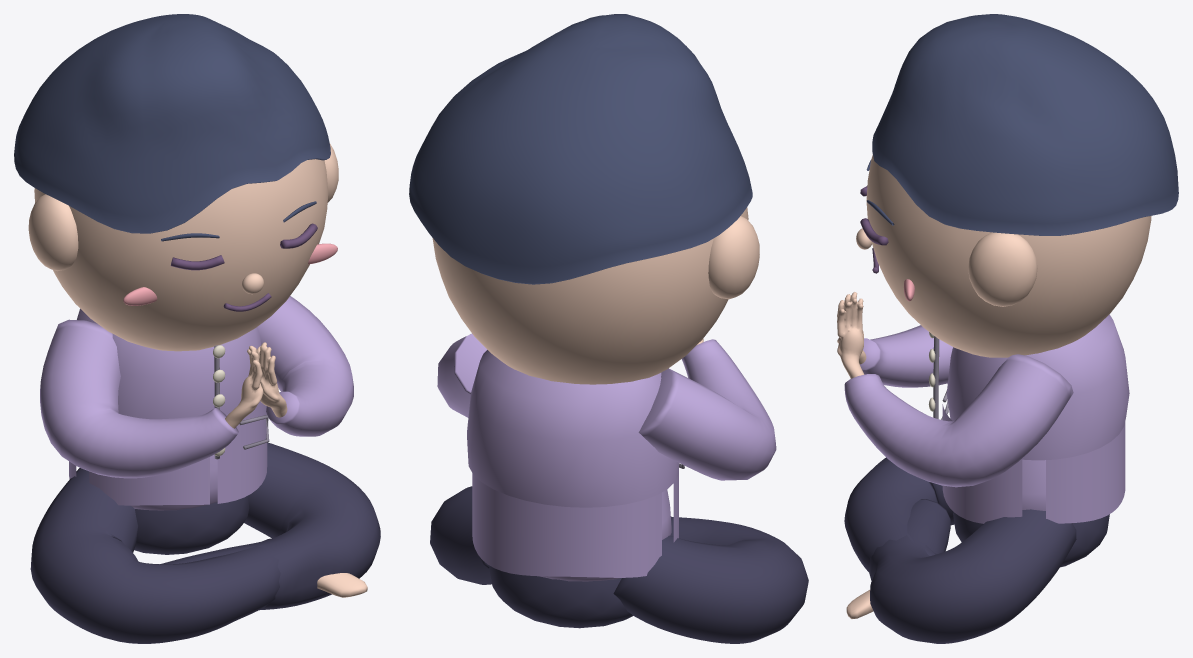
Rendered from meditator_male_cross_prayer_sidepart73_p07b1.glb.
The picture shows the model from 3 angles, left to right: view 1: azimuth 30°, elevation 25°; view 2: azimuth 150°, elevation 25°; view 3: azimuth 270°, elevation 25°; orthographic projection. The views are drawn at different scales.
Parts seen in each view (by area): view 1: hair_male_sidepart73_integrated_p07b1_object, ao_ba_ba_pants_SeatRoot_object, ao_ba_ba_top_UpperBodyBreath_object, skin_rose_cream_UpperBodyBreath_object, eyes_mauve_UpperBodyBreath_object, skin_rose_cream_SeatRoot_ankle_instep_toes_p05e_object, skin_blush_UpperBodyBreath_object; view 2: hair_male_sidepart73_integrated_p07b1_object, ao_ba_ba_top_UpperBodyBreath_object, skin_rose_cream_UpperBodyBreath_object, ao_ba_ba_pants_SeatRoot_object; view 3: hair_male_sidepart73_integrated_p07b1_object, ao_ba_ba_top_UpperBodyBreath_object, skin_rose_cream_UpperBodyBreath_object, ao_ba_ba_pants_SeatRoot_object, ao_ba_ba_placket_UpperBodyBreath_object, eyes_mauve_UpperBodyBreath_object, skin_rose_cream_SeatRoot_ankle_instep_toes_p05e_object.
Boxes of the visible parts, box(x1,y1,x2,y2) form: hair_male_sidepart73_integrated_p07b1_object: box(14, 14, 330, 241); ao_ba_ba_pants_SeatRoot_object: box(30, 442, 380, 643); ao_ba_ba_top_UpperBodyBreath_object: box(40, 296, 353, 510); skin_rose_cream_UpperBodyBreath_object: box(28, 143, 338, 428); eyes_mauve_UpperBodyBreath_object: box(170, 223, 317, 311); skin_rose_cream_SeatRoot_ankle_instep_toes_p05e_object: box(317, 573, 367, 597); skin_blush_UpperBodyBreath_object: box(123, 243, 337, 305); hair_male_sidepart73_integrated_p07b1_object: box(409, 14, 752, 284); ao_ba_ba_top_UpperBodyBreath_object: box(437, 333, 776, 581); skin_rose_cream_UpperBodyBreath_object: box(432, 207, 759, 384); ao_ba_ba_pants_SeatRoot_object: box(430, 486, 808, 643); hair_male_sidepart73_integrated_p07b1_object: box(866, 14, 1178, 235); ao_ba_ba_top_UpperBodyBreath_object: box(844, 314, 1129, 523); skin_rose_cream_UpperBodyBreath_object: box(837, 154, 1151, 378); ao_ba_ba_pants_SeatRoot_object: box(844, 457, 1109, 643); ao_ba_ba_placket_UpperBodyBreath_object: box(933, 336, 948, 419); eyes_mauve_UpperBodyBreath_object: box(860, 186, 888, 273); skin_rose_cream_SeatRoot_ankle_instep_toes_p05e_object: box(846, 590, 873, 618).
Bounding box in the file's own units: 0.7292 × 1.2 × 0.6691.
